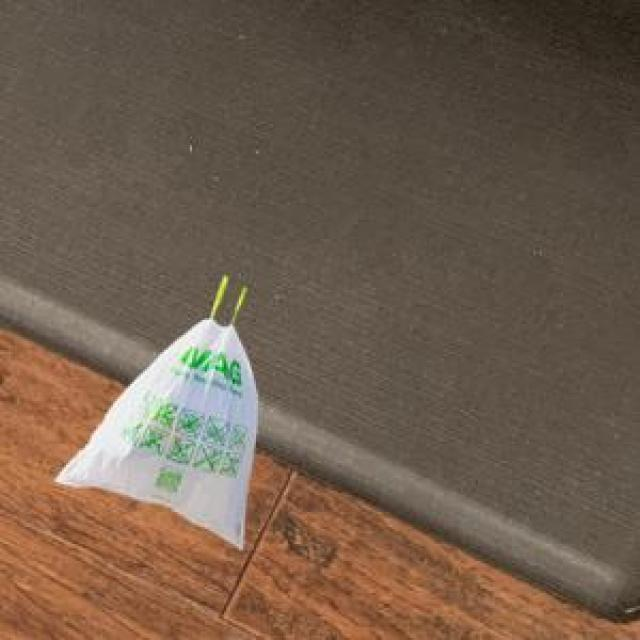waste: (56, 316, 258, 548)
